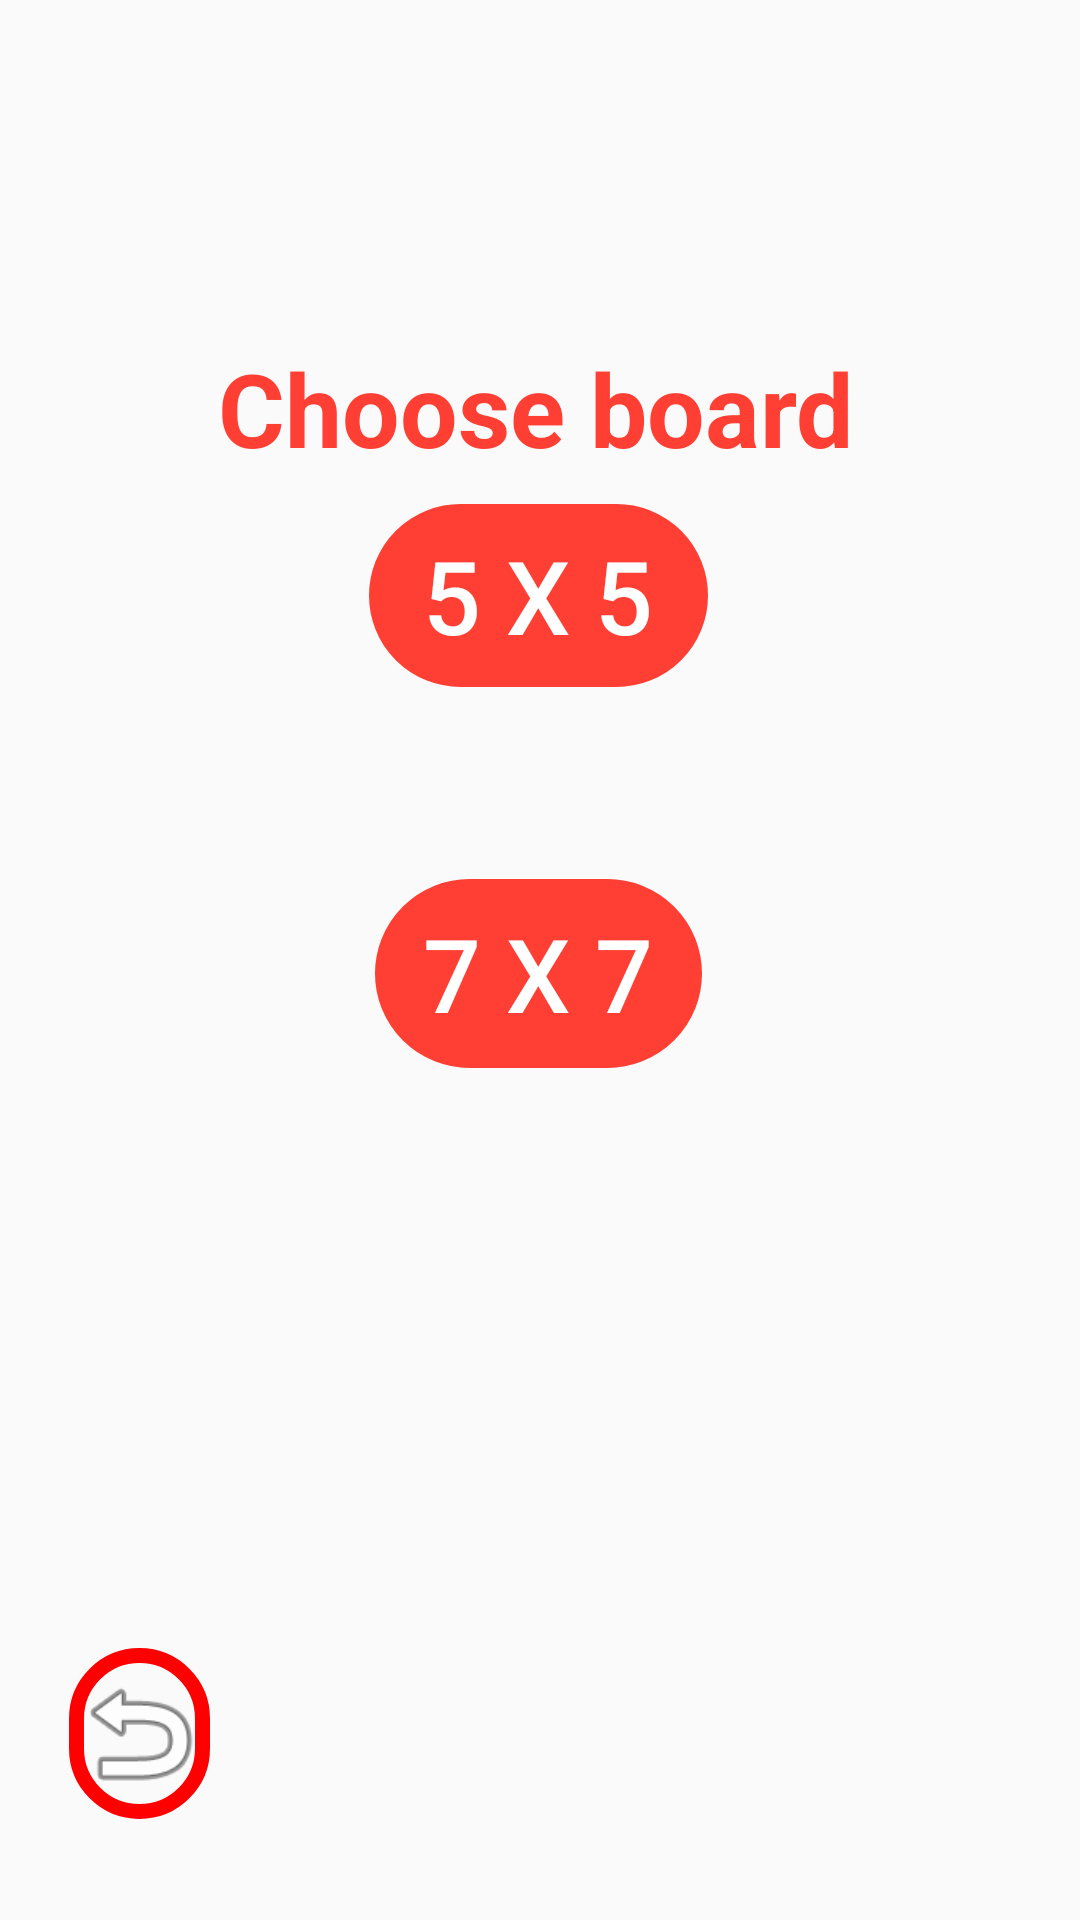

Where to tap for icons on this 1080x1920 app screen, as point (x, y):
revert: point (139, 1733)
